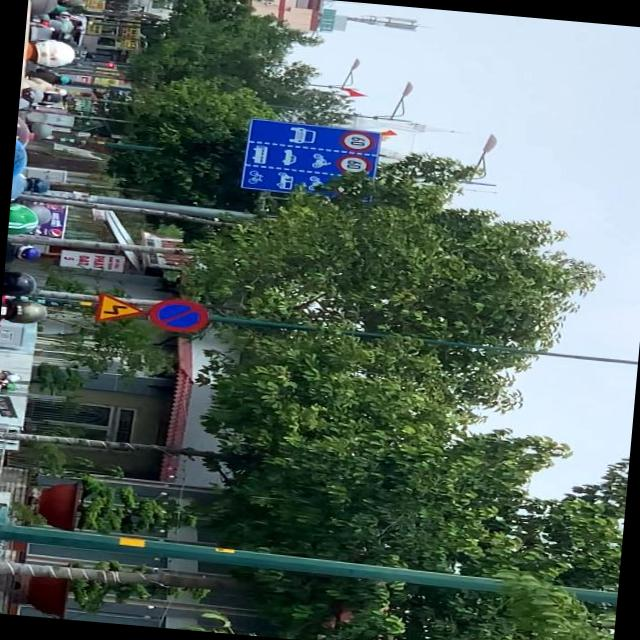P-131a: (147, 296, 210, 334)
W-201a: (93, 293, 145, 322)
